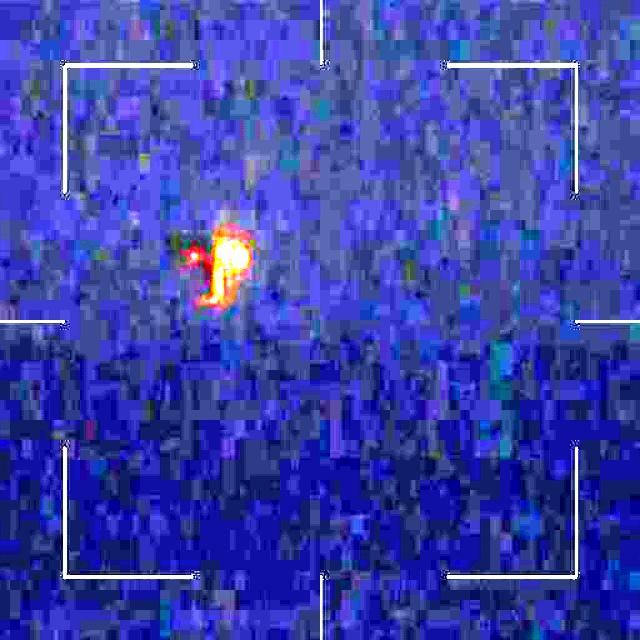bird: (168, 235, 246, 309)
